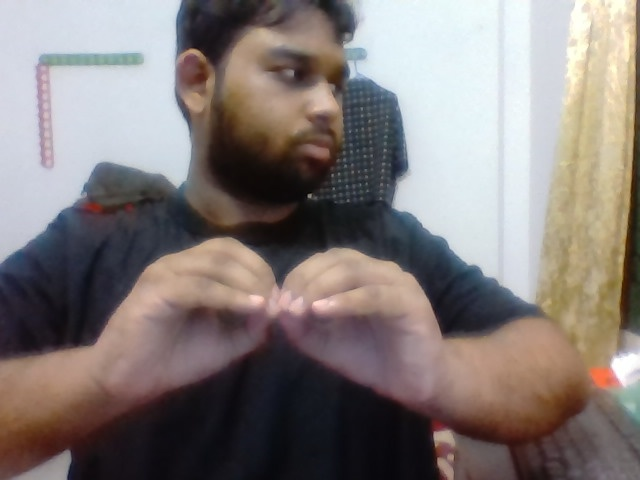B: (113, 226, 443, 442)
